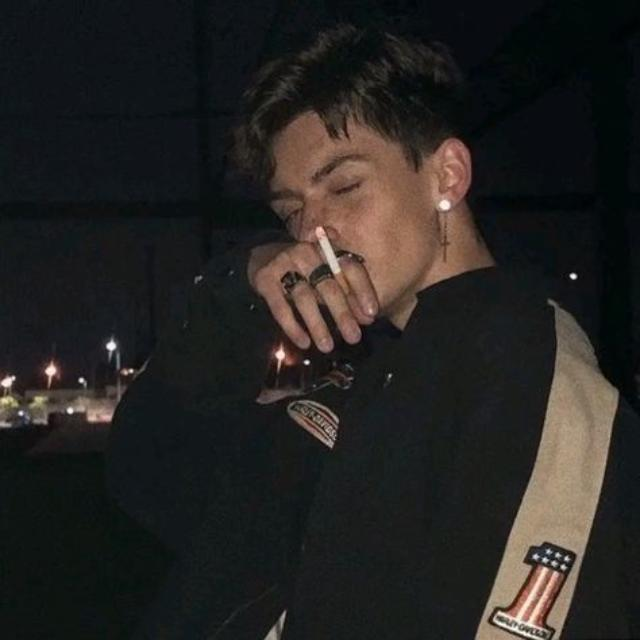rokok: (315, 226, 343, 288)
